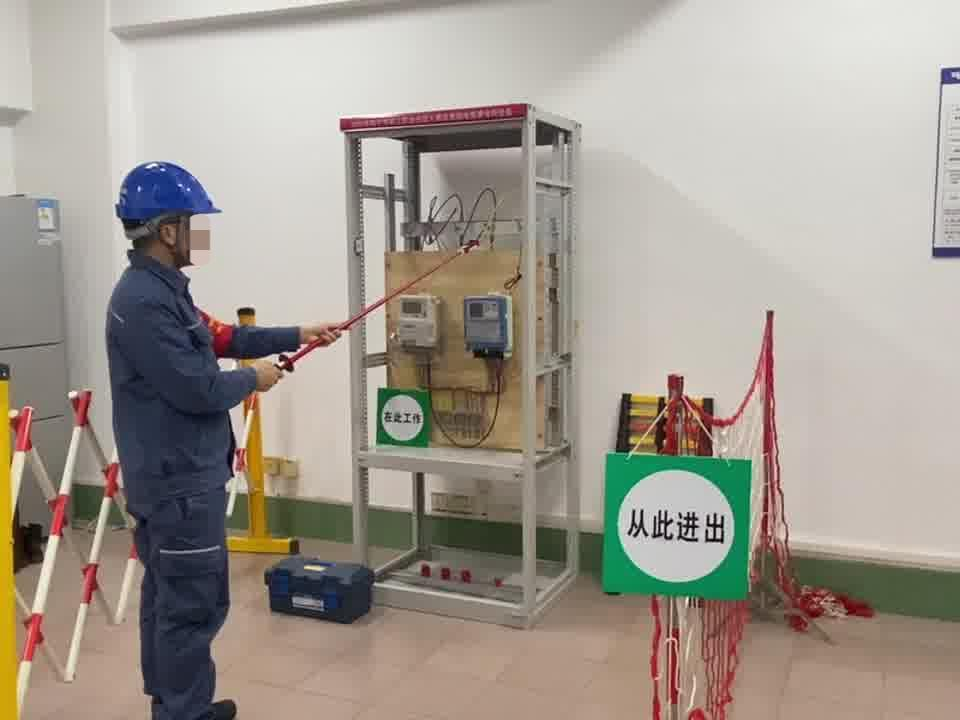halt: (117, 162, 224, 273)
inear: (148, 217, 190, 262)
